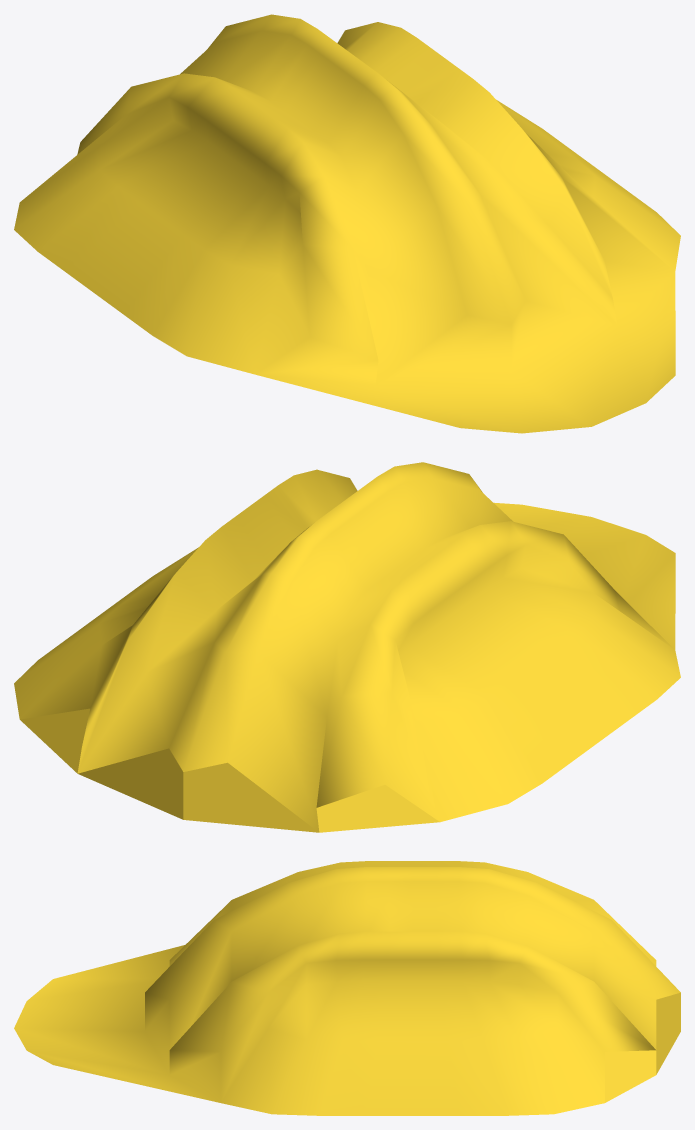
Rendered from baret.fbx.
The picture shows the model from 3 angles, top to bottom: view 1: azimuth 30°, elevation 25°; view 2: azimuth 150°, elevation 25°; view 3: azimuth 270°, elevation 25°; orthographic projection. The views are drawn at different scales.
Parts seen in each view (by area): view 1: Cube.001; view 2: Cube.001; view 3: Cube.001.
Boxes of the visible parts, <box> form: Cube.001: <box>14,14,680,433</box>; Cube.001: <box>14,462,680,832</box>; Cube.001: <box>14,861,680,1115</box>.
Size of the model in its own units: 124 by 47.32 by 174.
